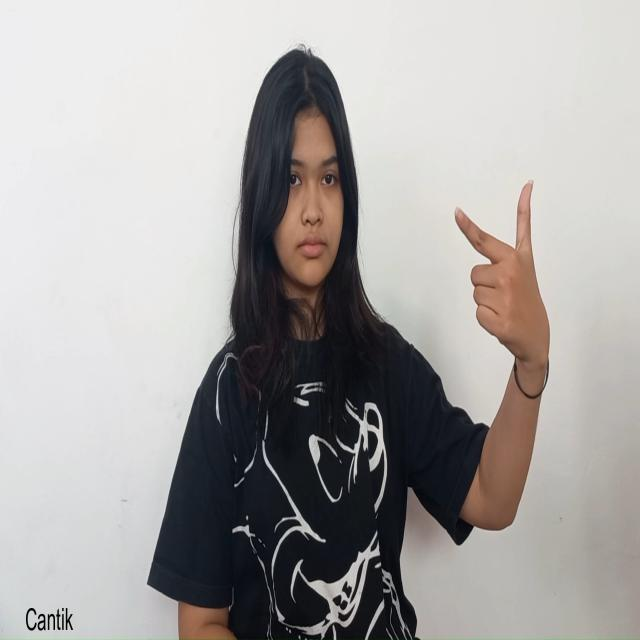Cantik -BISINDO-: (453, 178, 551, 400)
